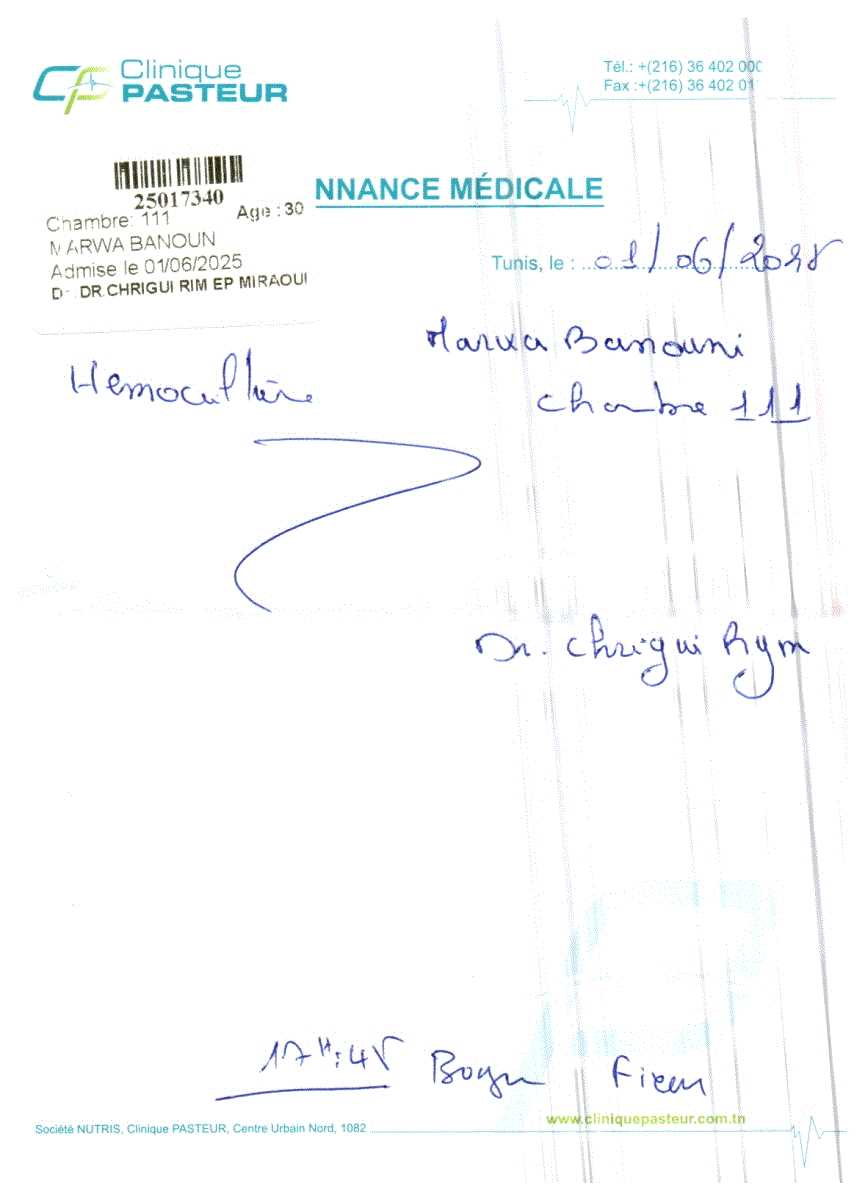zone_analyses: (61, 348, 369, 450)
zone_date: (467, 232, 855, 277), (44, 263, 266, 278)
zone_patient: (36, 213, 323, 260)
zone_prescripteur: (9, 36, 839, 152), (23, 1113, 767, 1156), (53, 281, 329, 309)
